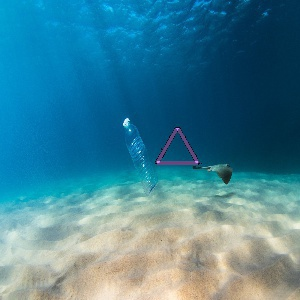triangle: (148, 124, 203, 170)
